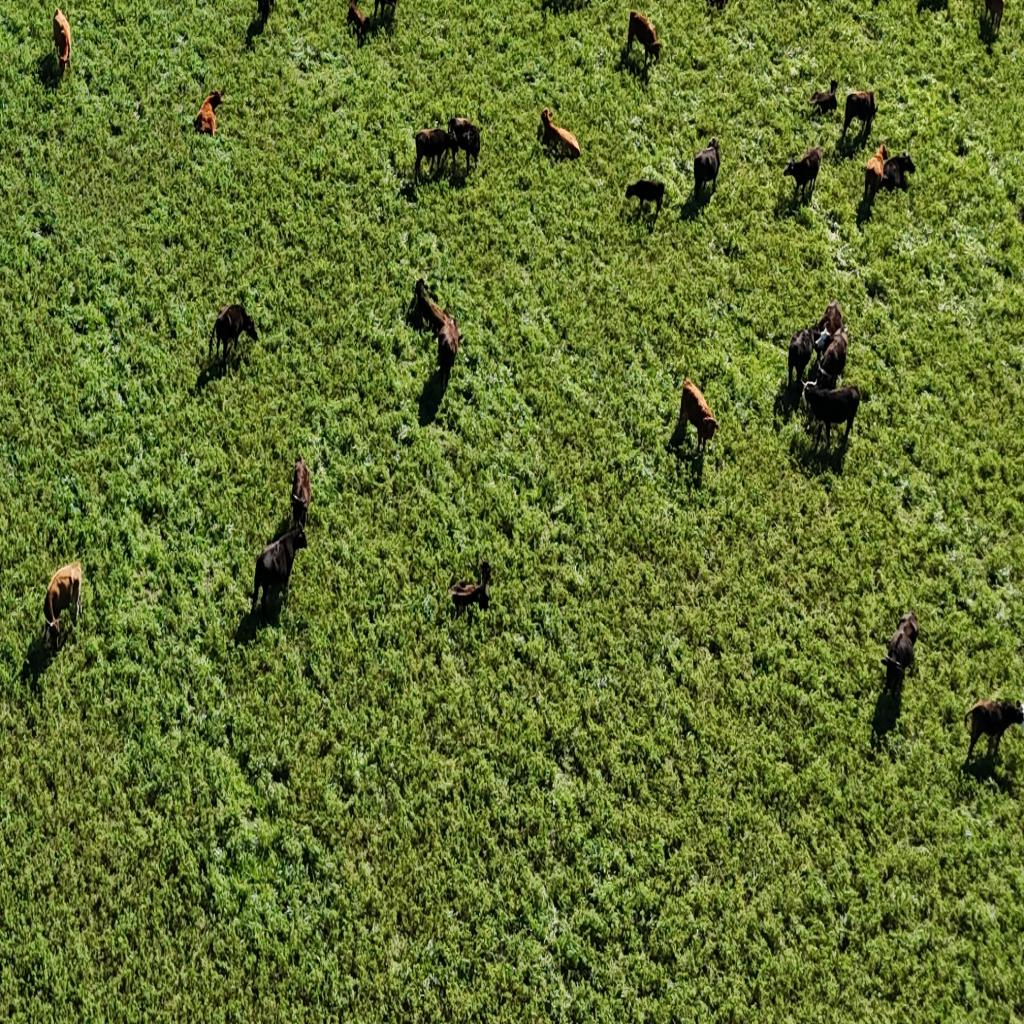cow: (413, 276, 463, 392), (250, 524, 308, 620), (800, 378, 859, 456), (960, 694, 1022, 768), (670, 374, 720, 458), (879, 606, 920, 706), (41, 559, 83, 655), (211, 304, 258, 370), (411, 275, 457, 339), (446, 558, 492, 618), (784, 144, 824, 208), (538, 103, 581, 161), (414, 126, 456, 184), (812, 324, 848, 391), (623, 6, 661, 69), (787, 329, 816, 399), (842, 89, 878, 145), (448, 115, 482, 174), (690, 136, 720, 202), (863, 141, 892, 209), (290, 457, 312, 537), (624, 176, 664, 218), (195, 83, 226, 136), (880, 152, 916, 192), (813, 300, 844, 344), (52, 6, 71, 74), (810, 78, 838, 118), (347, 0, 370, 43), (982, 0, 1005, 39), (374, 0, 398, 28), (256, 0, 276, 26), (708, 137, 720, 153)
